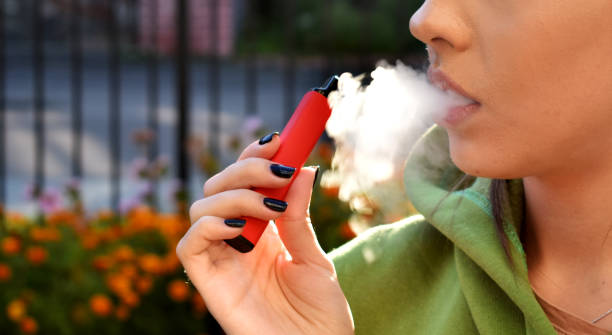cigarette: (221, 73, 349, 251)
